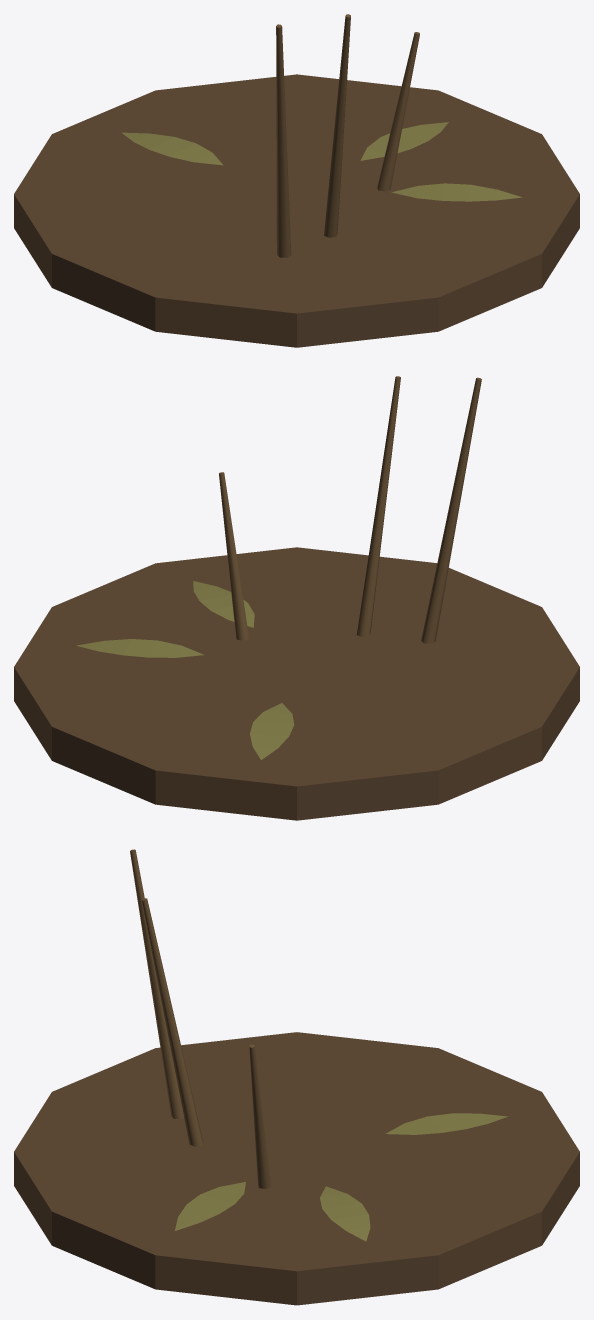
Rendered from lindenbluete-geerntet.glb.
The picture shows the model from 3 angles, top to bottom: view 1: azimuth 30°, elevation 25°; view 2: azimuth 150°, elevation 25°; view 3: azimuth 270°, elevation 25°; orthographic projection.
Parts seen in each view (by area): view 1: lindenbluete; view 2: lindenbluete; view 3: lindenbluete.
Boxes of the visible parts, left/top/right/bottom form: lindenbluete: left=14, top=14, right=579, bottom=347; lindenbluete: left=14, top=376, right=579, bottom=820; lindenbluete: left=14, top=849, right=579, bottom=1305.
Size of the model in its own units: 0.3 by 0.1679 by 0.3.
